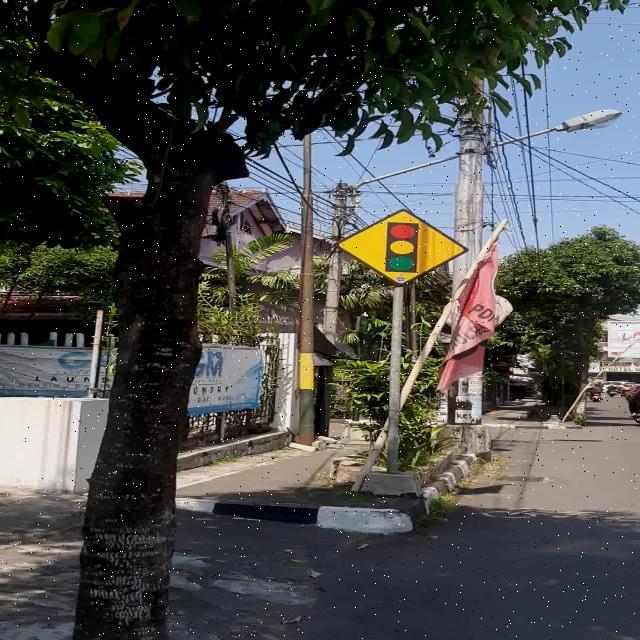Lampu Lalu Lintas: (333, 208, 469, 286)
